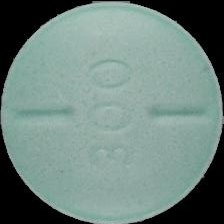0074-7149: (0, 0, 224, 224)
